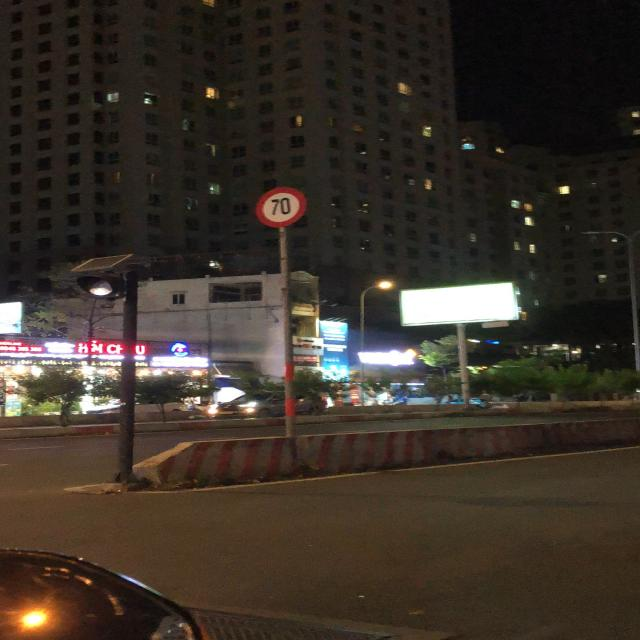Bien bao toc do toi da cho phep: (252, 183, 324, 231)
